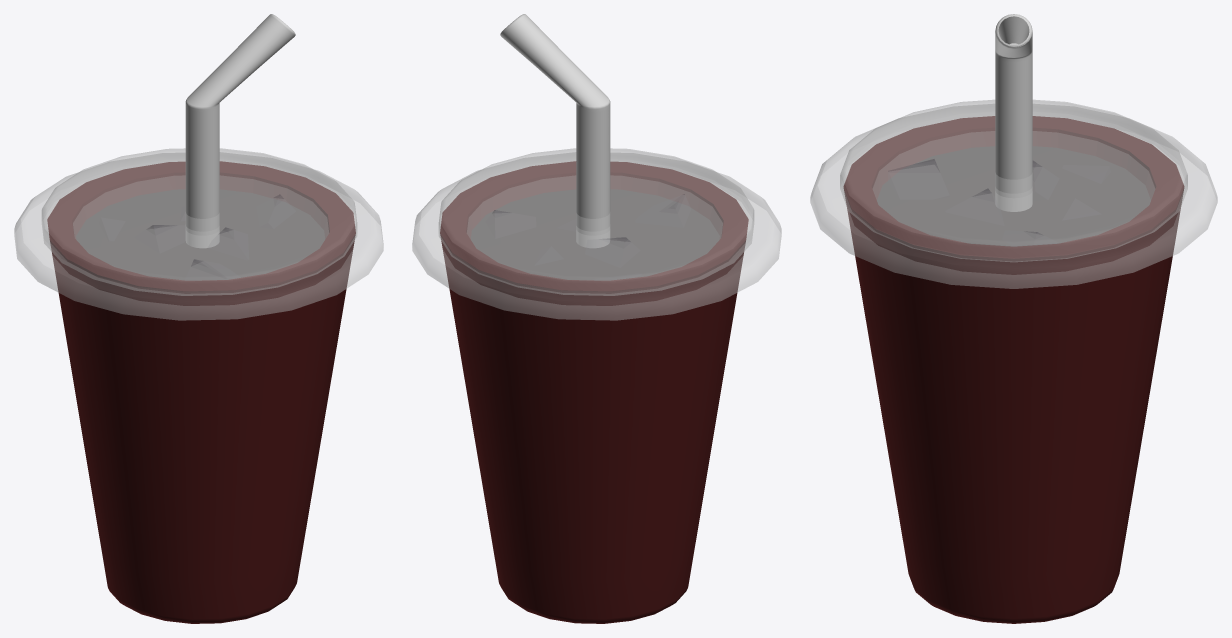
File: Cup.fbx
3 views of the same model, side by side, from view 1: azimuth 30°, elevation 25°; view 2: azimuth 150°, elevation 25°; view 3: azimuth 270°, elevation 25° (orthographic). The views are drawn at different scales.
Parts seen in each view (by area): view 1: pCylinder9; view 2: pCylinder9; view 3: pCylinder9.
Boxes of the visible parts, x1,y1,x2,y2 form: pCylinder9: [14, 14, 383, 623]; pCylinder9: [412, 14, 781, 623]; pCylinder9: [810, 14, 1217, 623].
Size of the model in its own units: 2.4 by 3.93 by 2.39.
